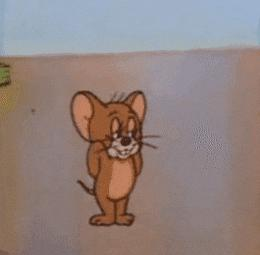jerry: (69, 90, 162, 228)
